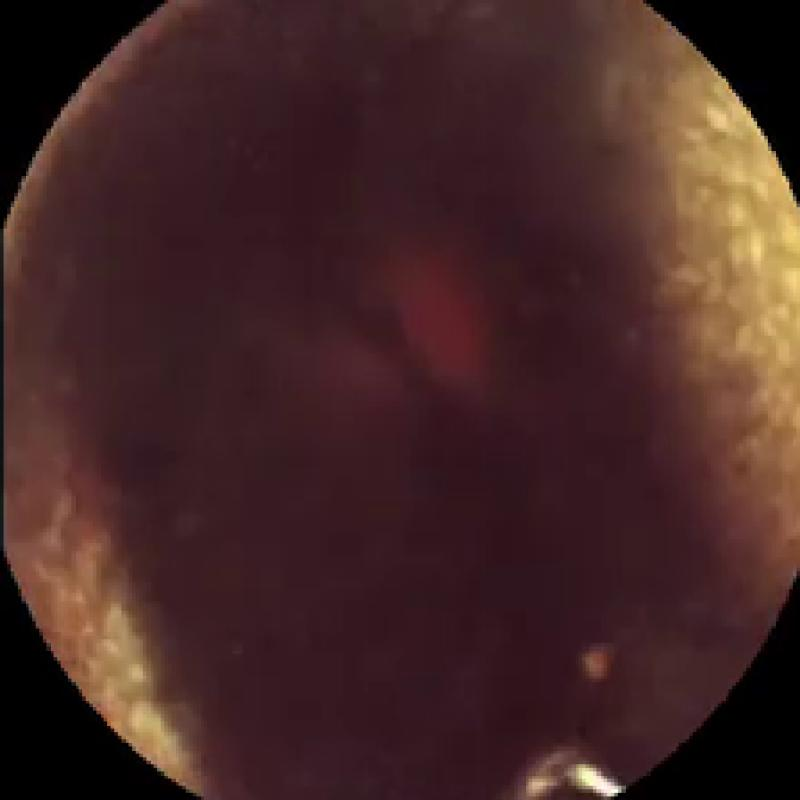bleeding: (386, 232, 493, 389)
